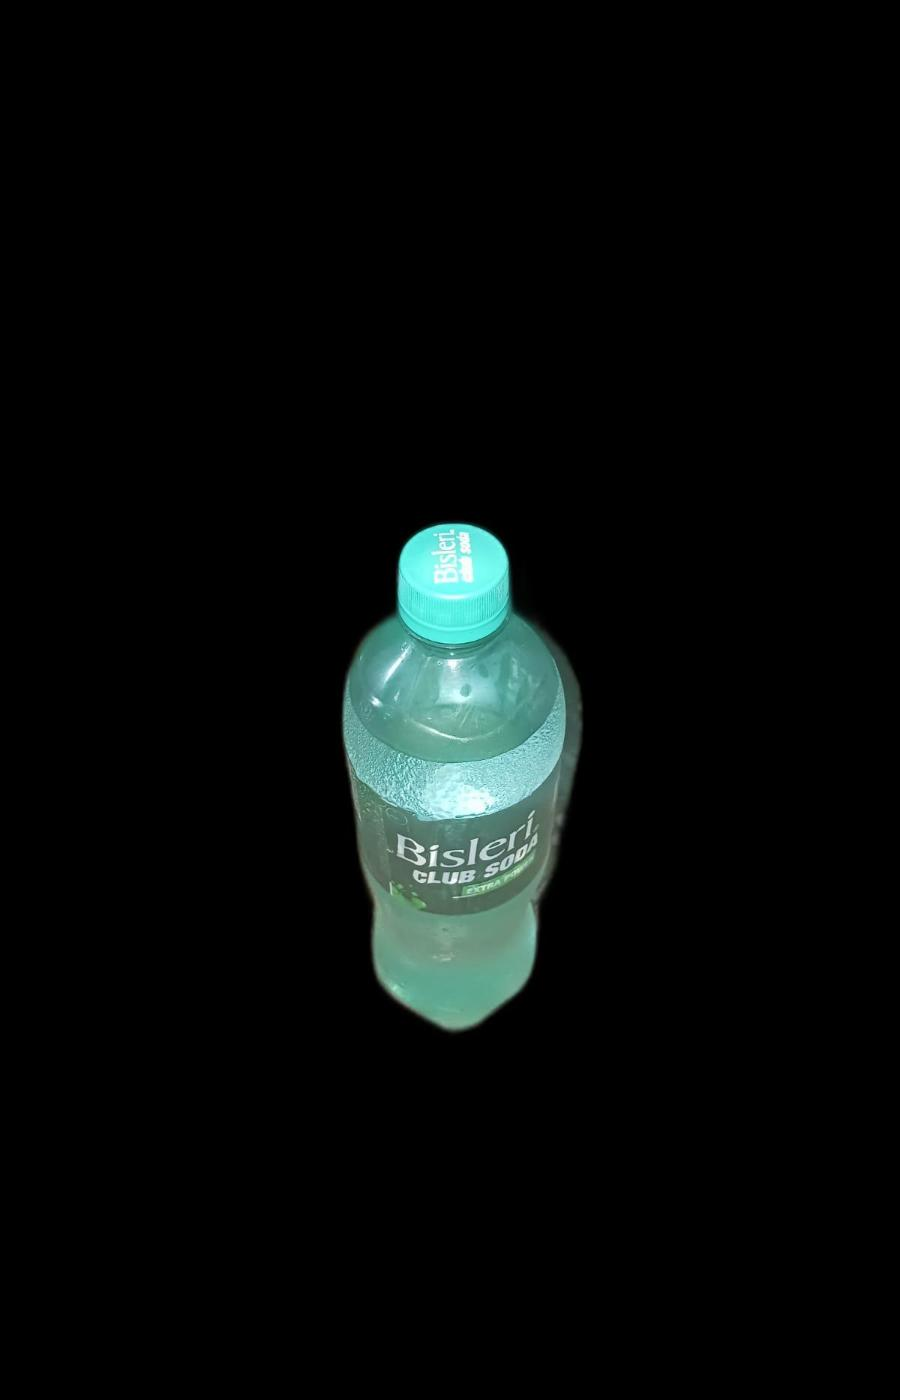Bisleri Club Soda - 750 ml: (345, 528, 565, 1038)
